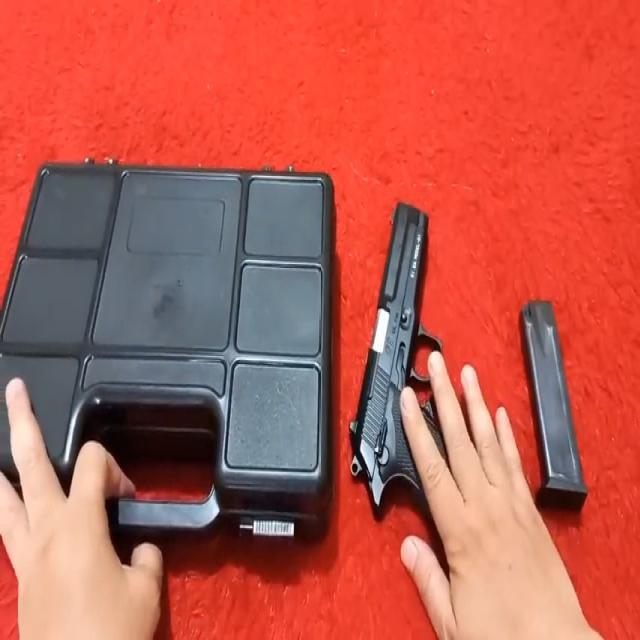handgun: (349, 192, 446, 520)
